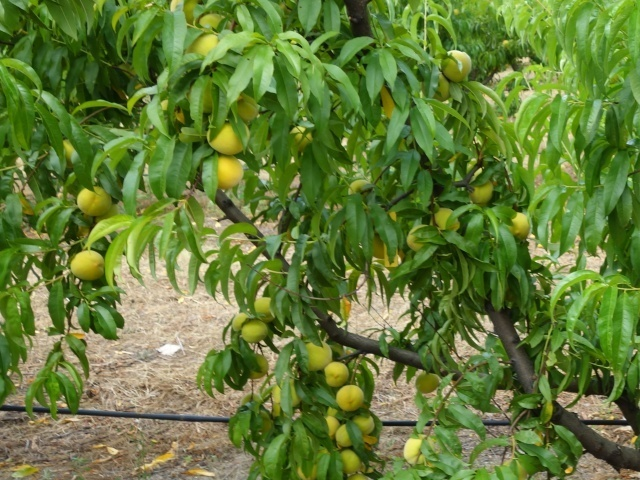peach: (203, 115, 254, 158), (203, 148, 249, 194), (182, 29, 230, 66), (418, 65, 457, 105), (74, 182, 114, 220), (437, 44, 474, 85), (67, 248, 108, 284), (296, 337, 334, 374), (426, 202, 464, 238), (330, 381, 369, 415), (402, 221, 439, 256), (193, 9, 232, 42), (318, 355, 352, 391), (502, 206, 535, 242), (402, 432, 435, 468), (246, 294, 281, 326), (285, 120, 317, 154), (465, 175, 497, 206), (239, 317, 272, 346), (349, 409, 380, 439), (334, 444, 363, 476), (244, 351, 273, 382), (342, 175, 374, 203), (412, 368, 442, 396), (331, 421, 357, 447), (228, 309, 253, 336), (319, 415, 342, 438)
